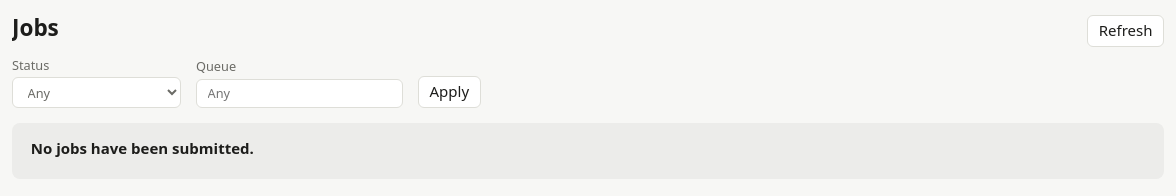
Jobs › sends the chosen filters and says an empty filtered result is filtered
This screenshot has width=1176, height=196.
expect the text "No jobs have been submitted." is shown: met, box [31,138,254,158]
expect the element showing "No jobs have been submitted." is shown: met, box [12,123,1164,179]
Select "DEAD_LETTERED" in the dropdown labelled "Status" at (96, 93), box [12,77,181,108]
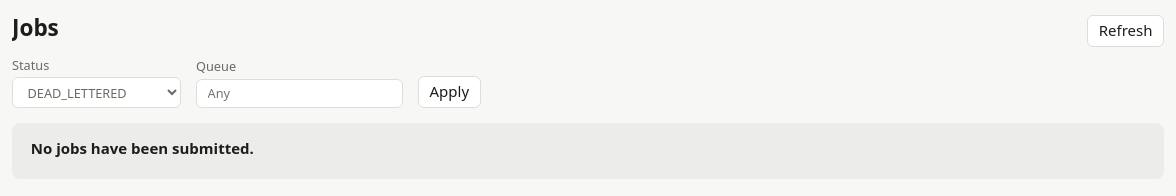
Type "fixture-queue-emails" into the field labelled "Queue" at (300, 94), box [196,79,403,108]
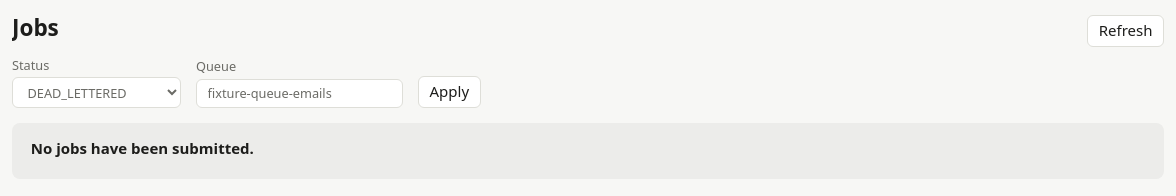
Click the button "Apply" at (449, 92), box [418,76,481,108]
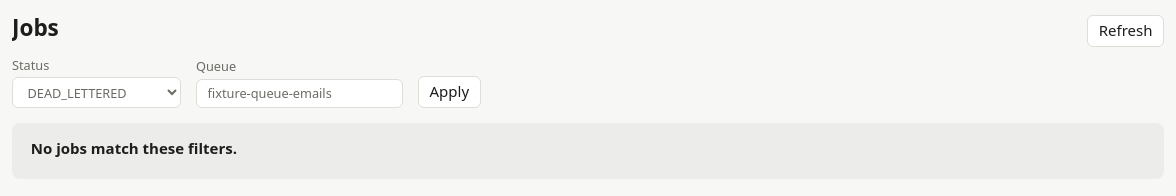
expect the text "No jobs match these filters." is shown: met, box [31,138,237,158]
expect the element showing "No jobs match these filters." is shown: met, box [12,123,1164,179]
